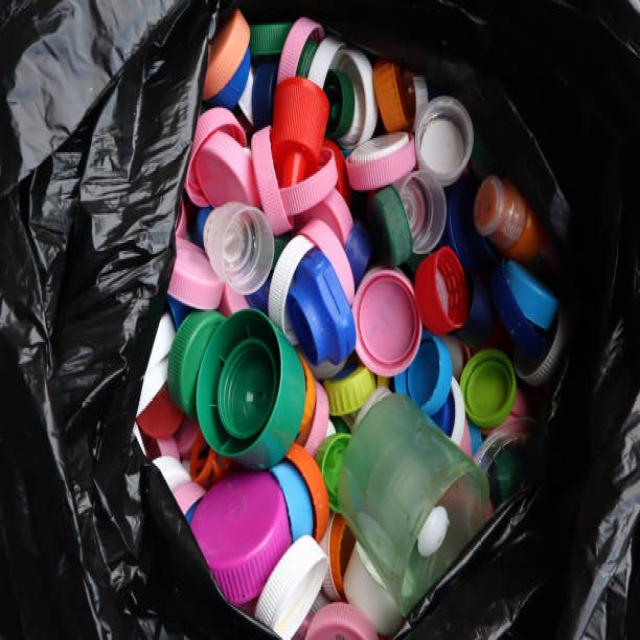plastic: (217, 92, 490, 520)
